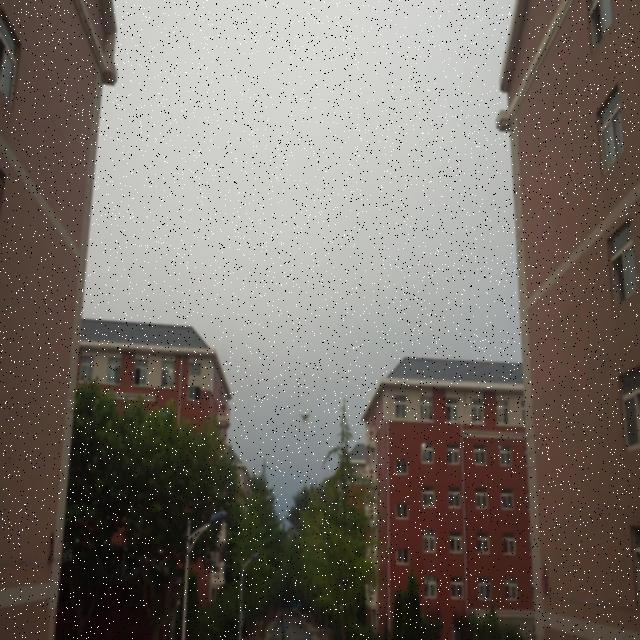UAV: (300, 414, 310, 424)
